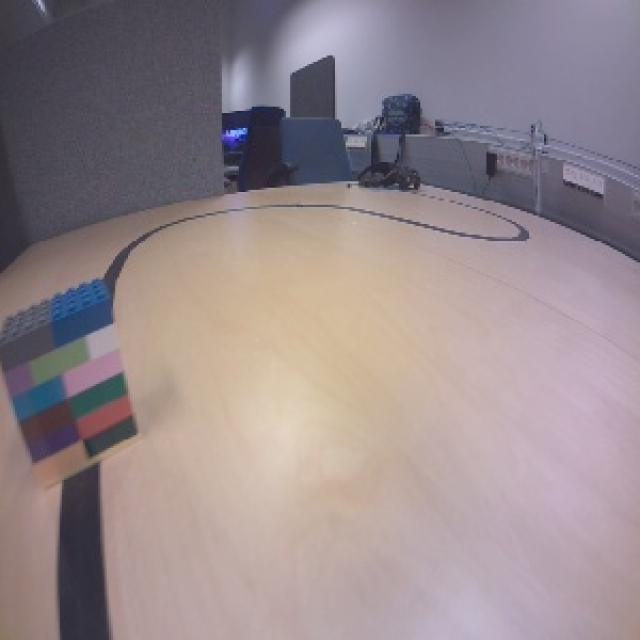obstacle: (0, 270, 149, 496)
